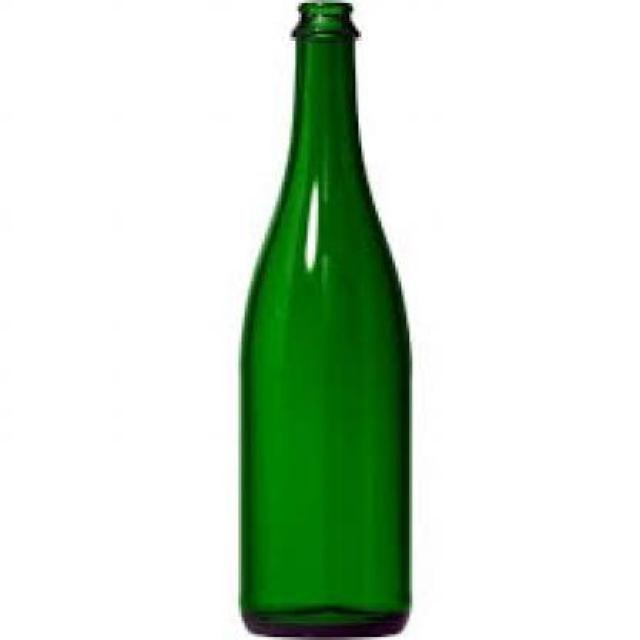GLASS: (238, 0, 410, 635)
